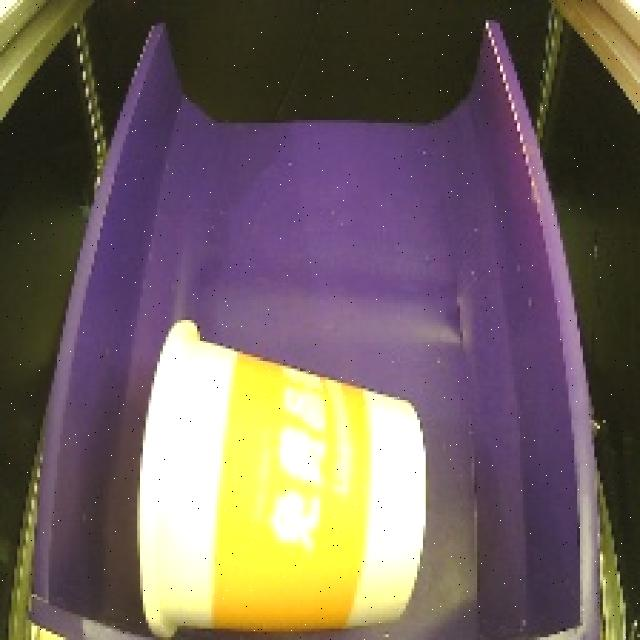cups: (127, 297, 440, 640)
